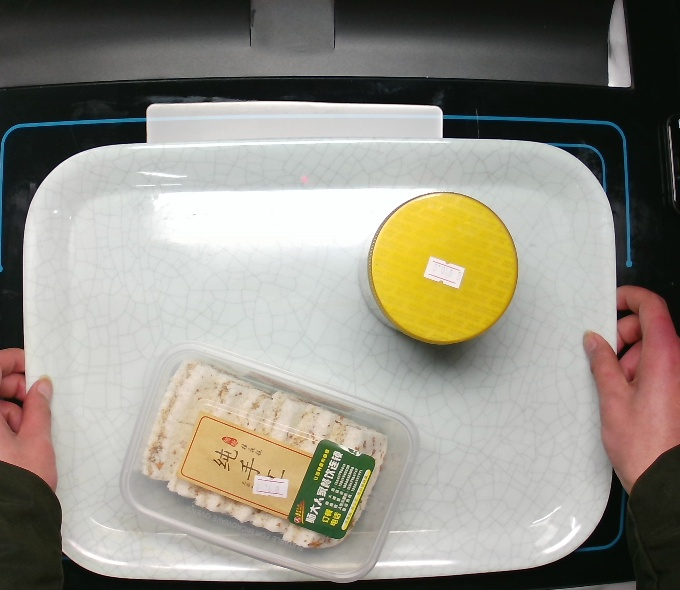wcq-GuiHuaGao: (115, 337, 423, 587)
wcq-MaiYaTang: (355, 189, 522, 351)
